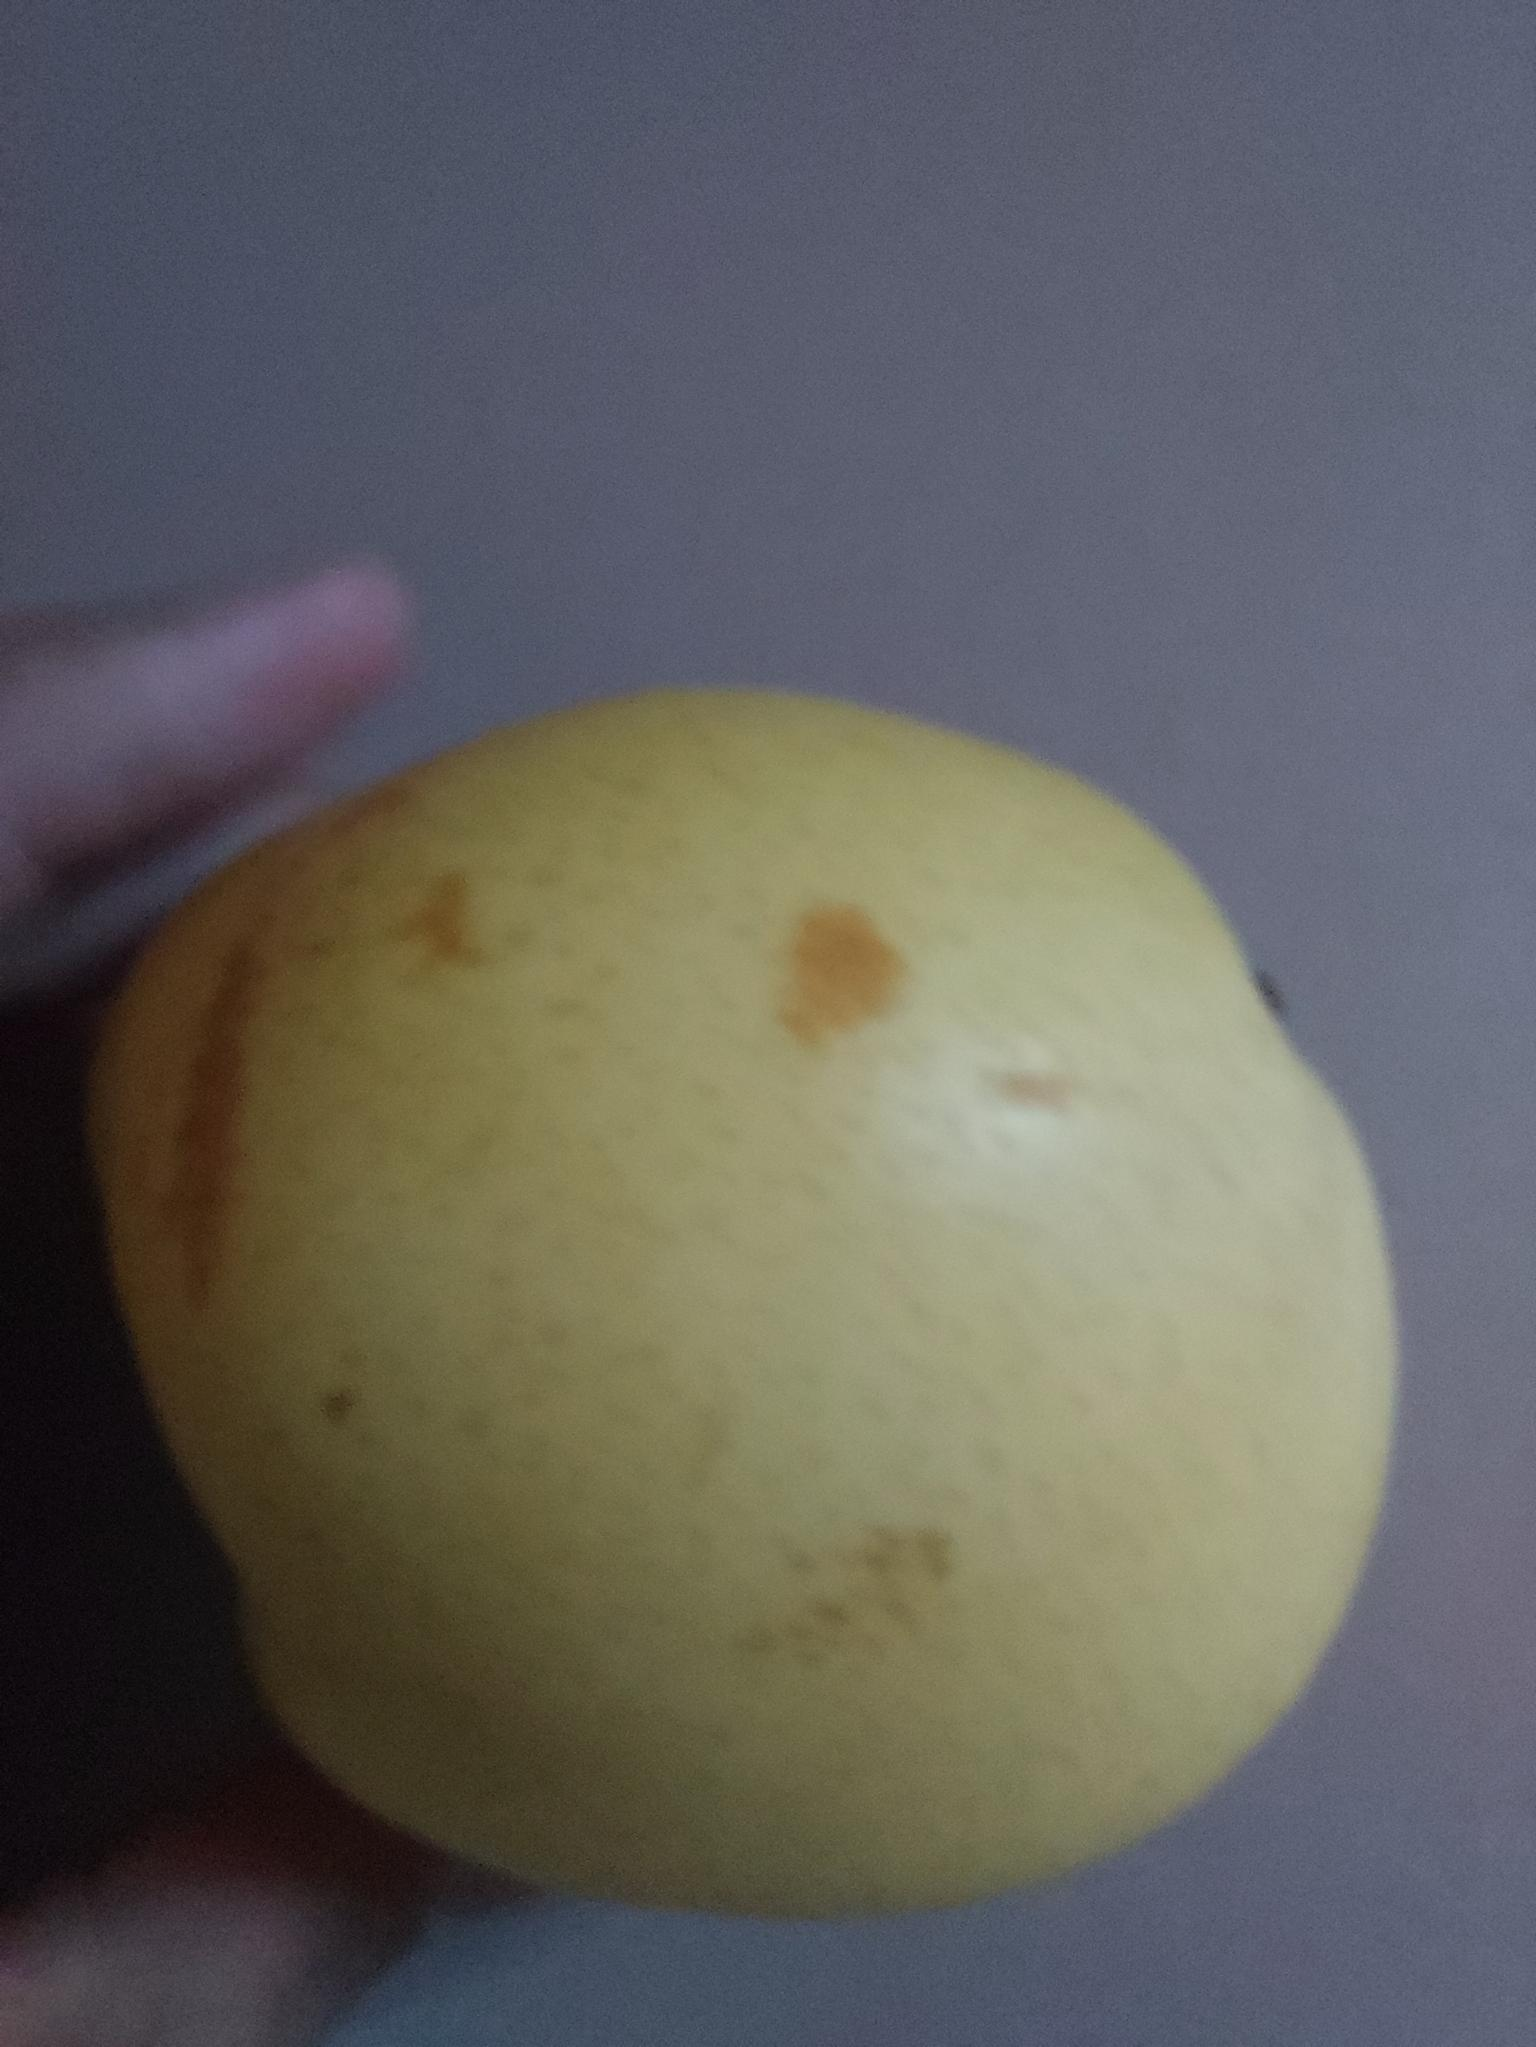Good Pear: (100, 665, 1434, 1932)
